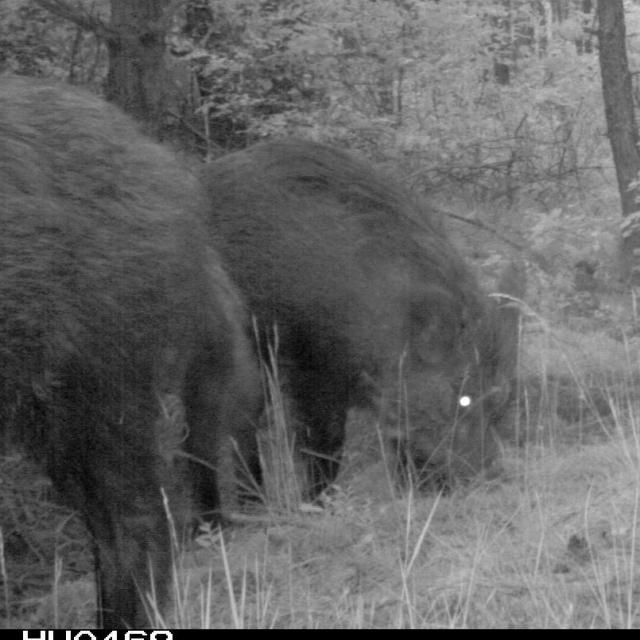pig: (253, 131, 544, 514)
